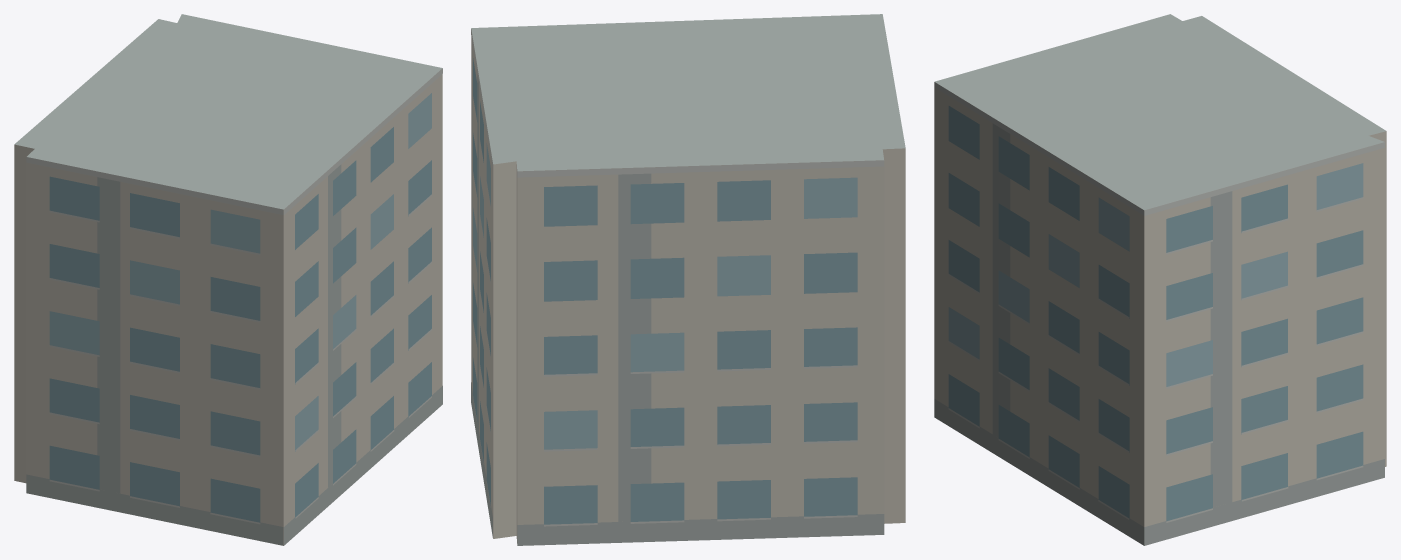
The model's file is survey-upis-32891659.glb.
The picture shows the model from 3 angles, left to right: view 1: azimuth 30°, elevation 25°; view 2: azimuth 150°, elevation 25°; view 3: azimuth 270°, elevation 25°; orthographic projection. The views are drawn at different scales.
Parts seen in each view (by area): view 1: survey-upis-32891659.tmp; view 2: survey-upis-32891659.tmp; view 3: survey-upis-32891659.tmp.
Part boxes in pixels (left/top/right/bottom): survey-upis-32891659.tmp: left=14, top=14, right=442, bottom=545; survey-upis-32891659.tmp: left=471, top=14, right=905, bottom=545; survey-upis-32891659.tmp: left=934, top=14, right=1386, bottom=545.
Bounding box in the file's own units: 18.08 × 14.4 × 17.6.
